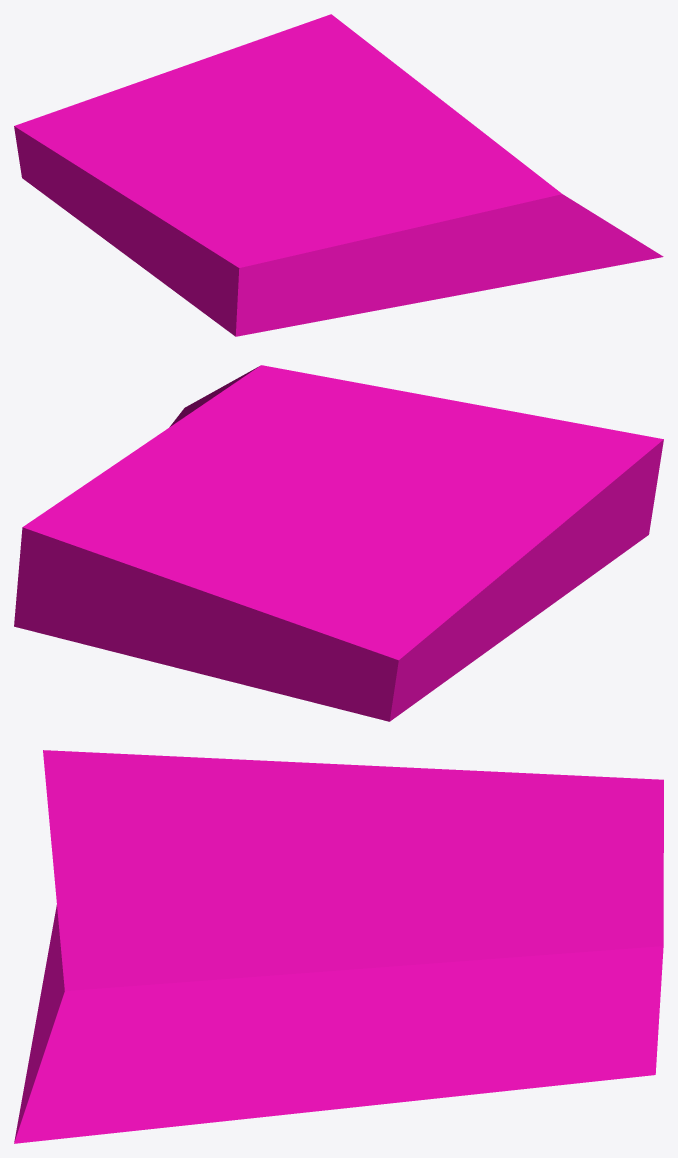
File: study_blanket_1_meshCollider.fbx
3 views of the same model, one above another, from view 1: azimuth 30°, elevation 25°; view 2: azimuth 150°, elevation 25°; view 3: azimuth 270°, elevation 25° (orthographic). The views are drawn at different scales.
Parts seen in each view (by area): view 1: study_blanket_1_meshCollider; view 2: study_blanket_1_meshCollider; view 3: study_blanket_1_meshCollider.
Part boxes in pixels (left/top/right/bottom): study_blanket_1_meshCollider: left=14, top=14, right=663, bottom=336; study_blanket_1_meshCollider: left=14, top=365, right=663, bottom=721; study_blanket_1_meshCollider: left=14, top=750, right=663, bottom=1143.
Size of the model in its own units: 29.57 by 6.46 by 28.96.
